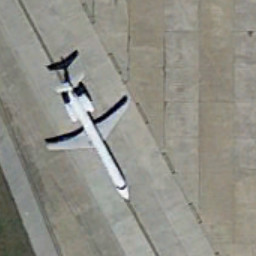Airplane: (24, 68, 149, 208)
